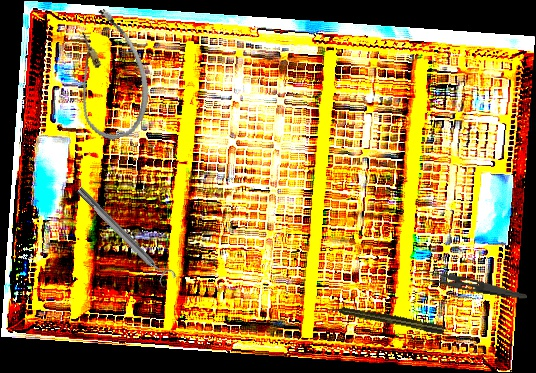Cannula: (55, 3, 162, 146)
Dressing Forceps: (417, 267, 529, 300)
Fixation Ring: (72, 181, 178, 290)
Handpiece: (326, 302, 445, 336)
